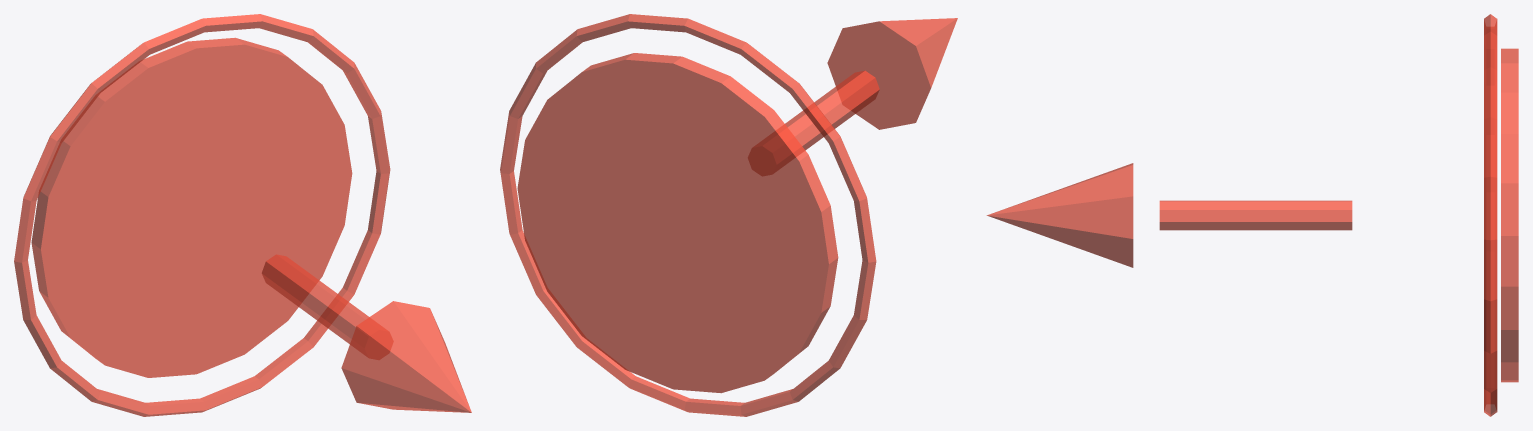
The model's file is 02_enemy_target_arrow.glb.
3 renders of one model, left to right at view 1: azimuth 30°, elevation 25°; view 2: azimuth 150°, elevation 25°; view 3: azimuth 270°, elevation 25°, orthographic. The views are drawn at different scales.
Visible parts, largest first — view 1: base_disc, base_ring, arrow_head, arrow_stem; view 2: base_disc, base_ring, arrow_head, arrow_stem; view 3: arrow_head, base_disc, arrow_stem, base_ring.
Part boxes in pixels (x1,y1,x2,y2): base_disc: [31, 37, 352, 377]; base_ring: [14, 14, 390, 416]; arrow_head: [341, 301, 471, 412]; arrow_stem: [261, 254, 392, 359]; base_disc: [517, 53, 838, 393]; base_ring: [500, 14, 876, 416]; arrow_head: [827, 18, 957, 129]; arrow_stem: [748, 70, 879, 175]; arrow_head: [986, 163, 1133, 267]; base_disc: [1501, 48, 1518, 382]; arrow_stem: [1159, 200, 1352, 230]; base_ring: [1484, 14, 1497, 416].
Size of the model in its own units: 1.16 by 1.16 by 1.52.
